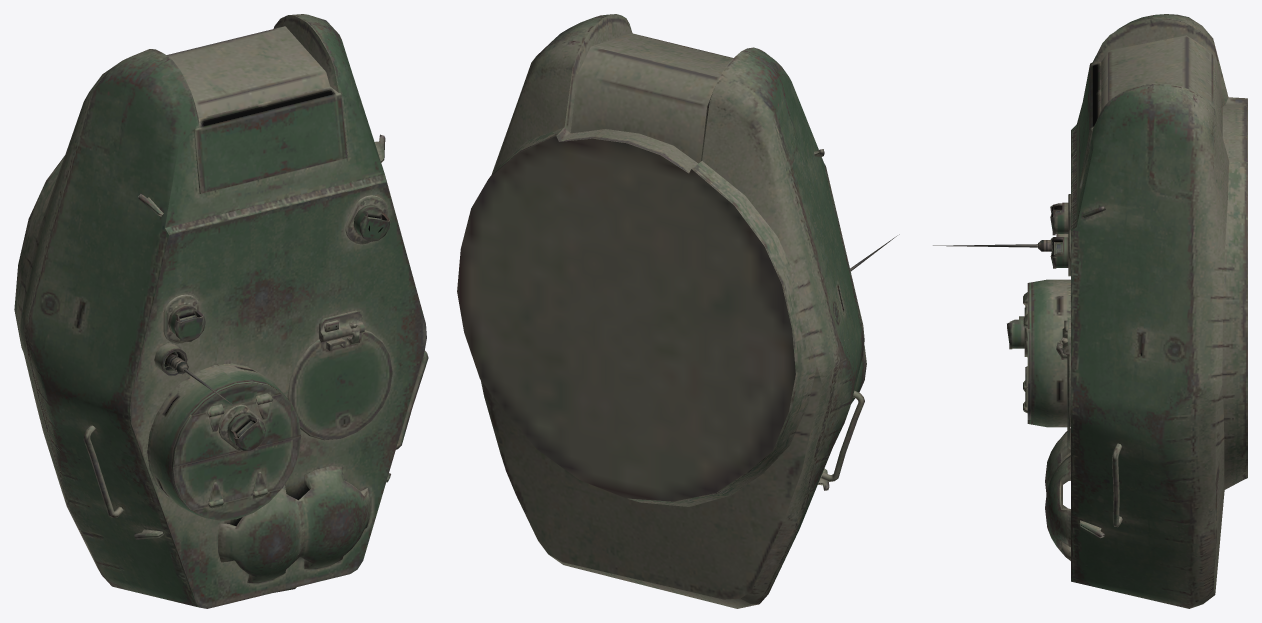
File: Turret_01.glb
The picture shows the model from 3 angles, left to right: view 1: azimuth 30°, elevation 25°; view 2: azimuth 150°, elevation 25°; view 3: azimuth 270°, elevation 25°; orthographic projection. The views are drawn at different scales.
Parts seen in each view (by area): view 1: set_0_group_0; view 2: set_0_group_0; view 3: set_0_group_0.
Boxes of the visible parts, <box> form: set_0_group_0: <box>14,14,428,608</box>; set_0_group_0: <box>457,14,899,608</box>; set_0_group_0: <box>933,14,1247,608</box>.
Size of the model in its own units: 2.03 by 2.83 by 1.57.
1 material, 1 textured.
